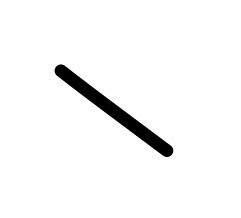b: (40, 49, 187, 173)
